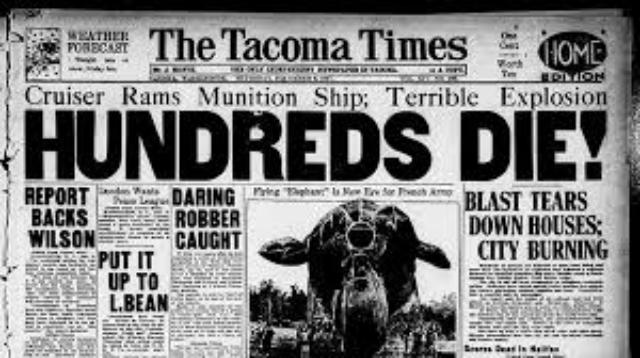cardboard paper: (4, 10, 631, 358)
